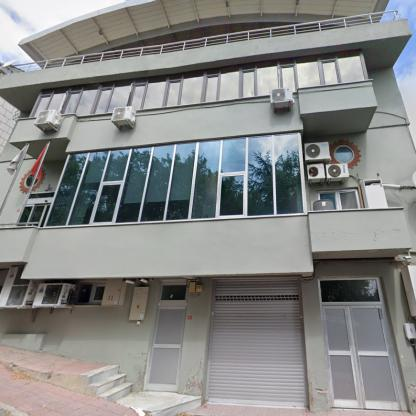door: (326, 307, 398, 404), (143, 307, 186, 393)
window: (46, 134, 304, 227), (32, 52, 366, 116), (320, 280, 378, 301), (17, 204, 51, 226), (319, 191, 357, 208), (162, 284, 188, 300), (89, 284, 104, 302)
